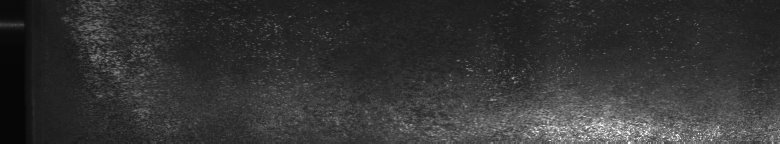kb: (516, 5, 776, 136)
